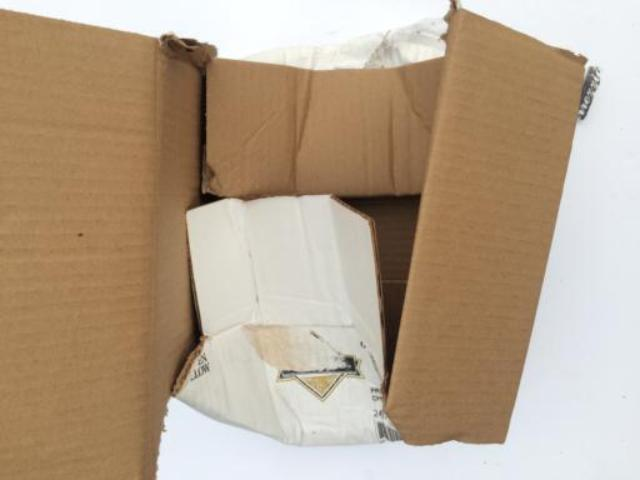cardboard paper: (0, 9, 588, 480)
